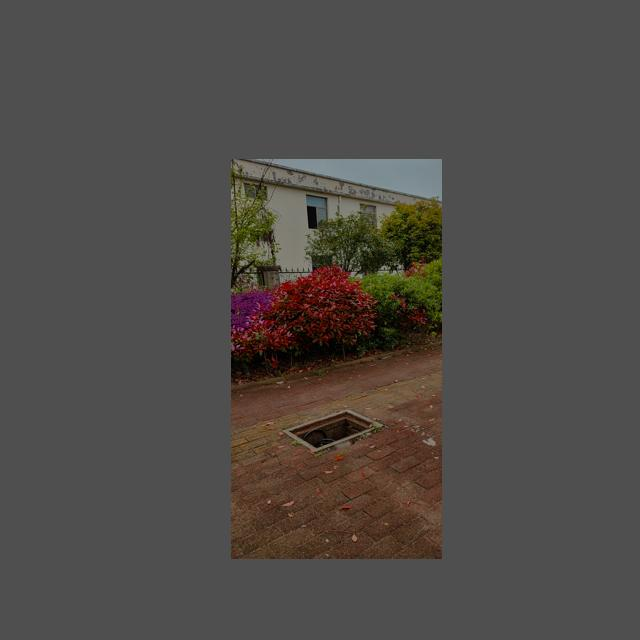lose: (275, 401, 387, 455)
